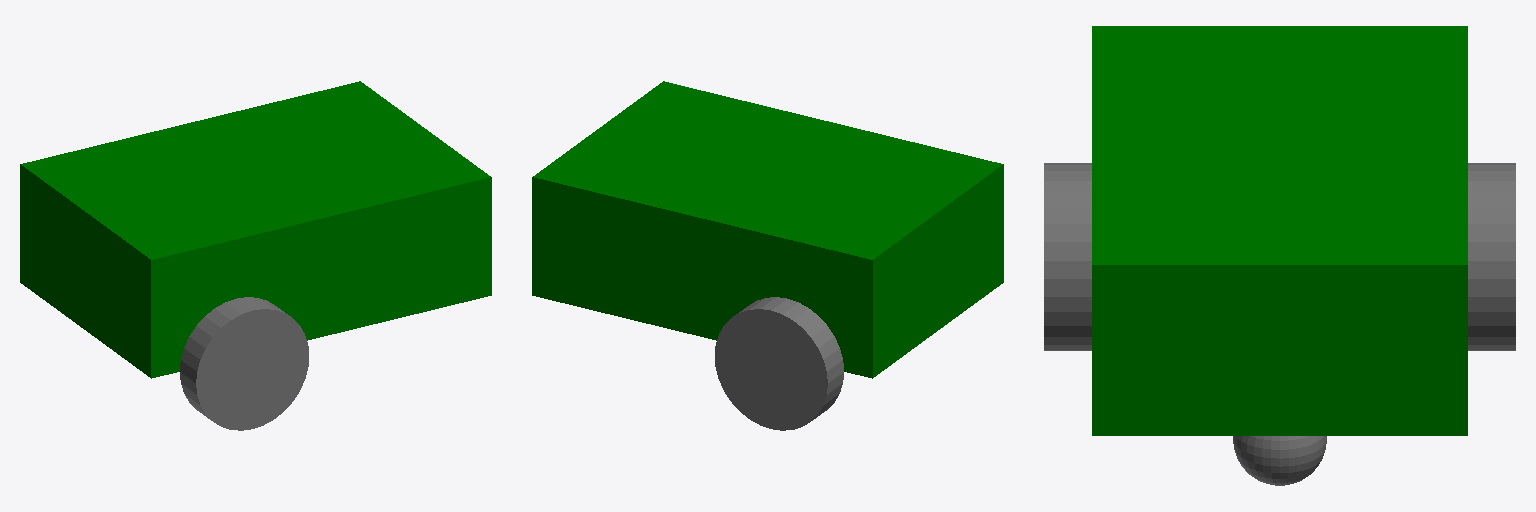
The robot description file, URDF, robot "my_robot":
<?xml version="1.0" ?>
<!-- =================================================================================== -->
<!-- |    This document was autogenerated by xacro from my_robot.urdf.xacro            | -->
<!-- |    EDITING THIS FILE BY HAND IS NOT RECOMMENDED                                 | -->
<!-- =================================================================================== -->
  <robot name="my_robot">
    <material name="green">
      <color rgba="0 0.5 0 1"/>
    </material>
    <material name="grey">
      <color rgba="0.5 0.5 0.5 1"/>
    </material>
    <material name="orange">
      <color rgba="1.0 0.64 0.28 1"/>
    </material>
    <material name="yellow">
      <color rgba="1.0 1.0 0 1"/>
    </material>
    <link name="base_footprint">
      <visual>
        <origin rpy="0 0 0" xyz="0 0 0"/>
      </visual>
    </link>
    <link name="base_link">
      <visual>
        <geometry>
          <box size="0.6 0.4 0.2"/>
        </geometry>
        <origin rpy="0 0 0" xyz="0 0 0.1"/>
        <material name="green"/>
      </visual>
      <collision>
        <geometry>
          <box size="0.6 0.4 0.2"/>
        </geometry>
        <origin rpy="0 0 0" xyz="0 0 0.1"/>
      </collision>
      <inertial>
        <mass value="5.0"/>
        <origin rpy="0 0 0" xyz="0 0 0.1"/>
        <inertia ixx="0.6666666666666667" ixy="0" ixz="0" iyy="0.8666666666666667" iyz="0" izz="0.3333333333333334"/>
      </inertial>
    </link>
    <link name="right_wheel_link">
      <visual>
        <geometry>
          <cylinder length="0.05" radius="0.1"/>
        </geometry>
        <origin rpy="1.5707963267948966 0 0" xyz="0 0 0"/>
        <material name="grey"/>
      </visual>
      <collision>
        <geometry>
          <cylinder length="0.05" radius="0.1"/>
        </geometry>
        <origin rpy="1.5707963267948966 0 0" xyz="0 0 0"/>
      </collision>
      <inertial>
        <mass value="1.0"/>
        <origin rpy="1.5707963267948966 0 0" xyz="0 0 0"/>
        <inertia ixx="0.010833333333333335" ixy="0" ixz="0" iyy="0.010833333333333335" iyz="0" izz="0.020000000000000004"/>
      </inertial>
    </link>
    <link name="left_wheel_link">
      <visual>
        <geometry>
          <cylinder length="0.05" radius="0.1"/>
        </geometry>
        <origin rpy="1.5707963267948966 0 0" xyz="0 0 0"/>
        <material name="grey"/>
      </visual>
      <collision>
        <geometry>
          <cylinder length="0.05" radius="0.1"/>
        </geometry>
        <origin rpy="1.5707963267948966 0 0" xyz="0 0 0"/>
      </collision>
      <inertial>
        <mass value="1.0"/>
        <origin rpy="1.5707963267948966 0 0" xyz="0 0 0"/>
        <inertia ixx="0.010833333333333335" ixy="0" ixz="0" iyy="0.010833333333333335" iyz="0" izz="0.020000000000000004"/>
      </inertial>
    </link>
    <link name="caster_wheel_link">
      <visual>
        <geometry>
          <sphere radius="0.05"/>
        </geometry>
        <origin rpy="0 0 0" xyz="0 0 0"/>
        <material name="grey"/>
      </visual>
      <collision>
        <geometry>
          <sphere radius="0.05"/>
        </geometry>
        <origin rpy="0 0 0" xyz="0 0 0"/>
      </collision>
      <inertial>
        <mass value="0.5"/>
        <origin rpy="0 0 0" xyz="0 0 0"/>
        <inertia ixx="0.0020000000000000005" ixy="0" ixz="0" iyy="0.0020000000000000005" iyz="0" izz="0.0020000000000000005"/>
      </inertial>
    </link>
    <joint name="base_joint" type="fixed">
      <parent link="base_footprint"/>
      <child link="base_link"/>
      <origin rpy="0 0 0" xyz="0 0 0.1"/>
    </joint>
    <joint name="base_right_wheel_joint" type="continuous">
      <parent link="base_link"/>
      <child link="right_wheel_link"/>
      <origin rpy="0 0 0" xyz="-0.15 -0.225 0"/>
      <axis xyz="0 1 0"/>
    </joint>
    <joint name="base_left_wheel_joint" type="continuous">
      <parent link="base_link"/>
      <child link="left_wheel_link"/>
      <origin rpy="0 0 0" xyz="-0.15 0.225 0"/>
      <axis xyz="0 1 0"/>
    </joint>
    <joint name="base_caster_wheel_joint" type="fixed">
      <parent link="base_link"/>
      <child link="caster_wheel_link"/>
      <origin rpy="0 0 0" xyz="0.19999999999999998 0 -0.05"/>
    </joint>
    <gazebo reference="base_link">
      <material>Gazebo/Blue</material>
    </gazebo>
    <gazebo reference="right_wheel_link">
      <material>Gazebo/Grey</material>
    </gazebo>
    <gazebo reference="left_wheel_link">
      <material>Gazebo/Grey</material>
    </gazebo>
    <gazebo reference="caster_wheel_link">
      <material>Gazebo/Grey</material>
      <mu1 value="0.1"/>
      <mu2 value="0.2"/>
    </gazebo>
    <gazebo>
      <plugin filename="gz-sim-diff-drive-system" name="gz::sim::systems::DiffDrive">
        <left_joint>base_left_wheel_joint</left_joint>
        <right_joint>base_right_wheel_joint</right_joint>
        <frame_id>odom</frame_id>
        <odom_topic>odom</odom_topic>
        <child_frame_id>base_footprint</child_frame_id>
        <wheel_separation>0.45</wheel_separation>
        <wheel_radius>0.1</wheel_radius>
        <odom_publish_frequency>1</odom_publish_frequency>
        <topic>cmd_vel</topic>
        <max_linear_acceleration>0.033</max_linear_acceleration>
      </plugin>
    </gazebo>
  </robot>

--- What the picture shows (computed from the rendered views, not written in the file) ---
3 views of the same robot in one strip: view 1: azimuth 30°, elevation 25°; view 2: azimuth 150°, elevation 25°; view 3: azimuth 270°, elevation 25° (orthographic).
Robot: my_robot — 5 links, 4 joints (2 continuous, 2 fixed); root link base_footprint; default pose: all joints at 0.
Visible links, largest first — view 1: base_link, right_wheel_link; view 2: base_link, left_wheel_link; view 3: base_link, right_wheel_link, left_wheel_link, caster_wheel_link.
Link boxes in pixels (bbox=[...]): base_link: bbox=[20, 81, 491, 378]; right_wheel_link: bbox=[180, 297, 308, 430]; base_link: bbox=[532, 81, 1003, 378]; left_wheel_link: bbox=[715, 297, 843, 430]; base_link: bbox=[1092, 26, 1467, 435]; right_wheel_link: bbox=[1044, 163, 1091, 350]; left_wheel_link: bbox=[1468, 163, 1515, 350]; caster_wheel_link: bbox=[1233, 436, 1326, 485].
Size in the robot's own frame: 0.6 by 0.5 by 0.3 metres.
Geometry: primitives only (box / cylinder / sphere), no mesh files.